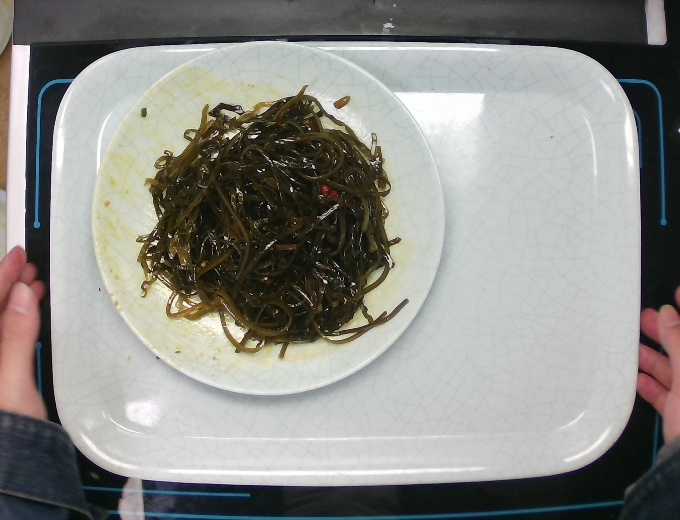JYsf-Da_Yuan_Pan: (88, 37, 450, 397)
